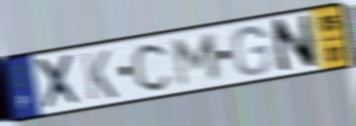C: (130, 41, 175, 93)
G: (230, 24, 273, 78)
K: (79, 48, 120, 103)
M: (172, 31, 223, 89)
N: (268, 12, 319, 76)
X: (32, 52, 86, 113)
